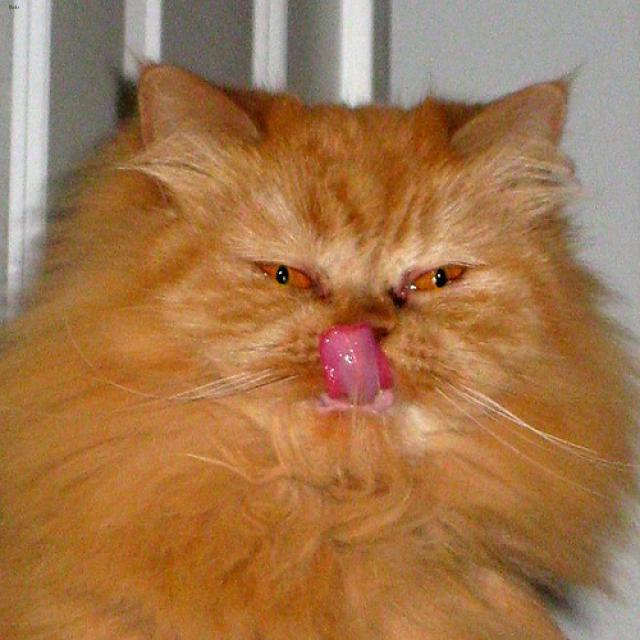Persian: (137, 61, 567, 452)
